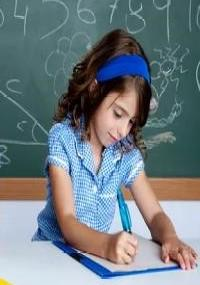good: (35, 25, 200, 276)
